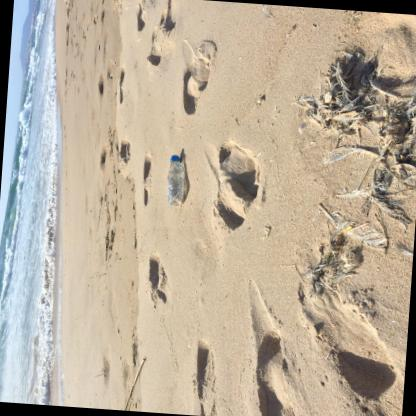Plastic: (167, 154, 184, 205), (170, 154, 180, 160)
Waste: (336, 225, 352, 235)
